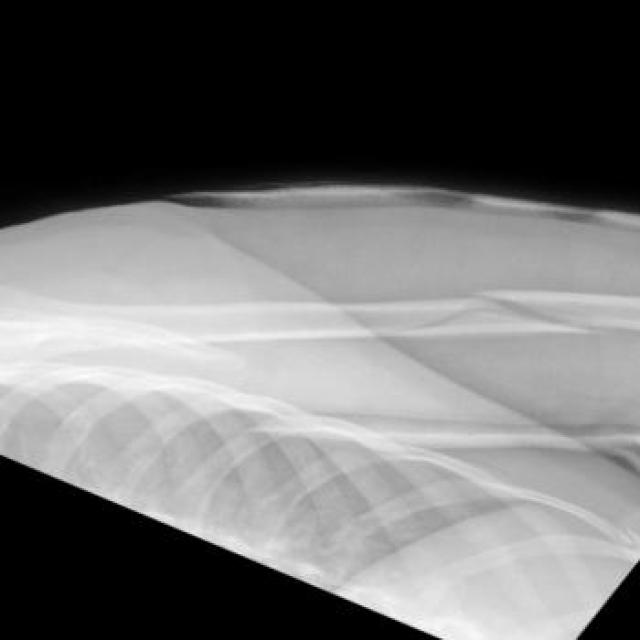Fracture: (454, 286, 594, 338)
